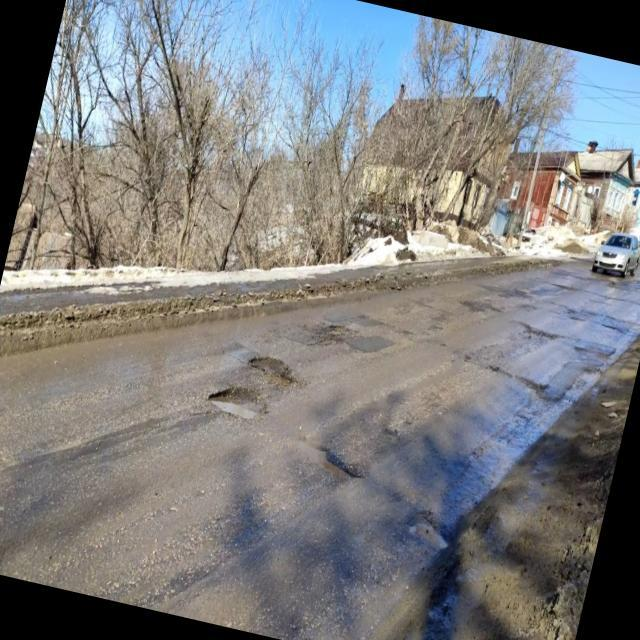Pothole: (291, 434, 365, 494), (200, 376, 278, 432), (239, 348, 304, 392), (406, 506, 454, 554), (315, 314, 355, 346)
